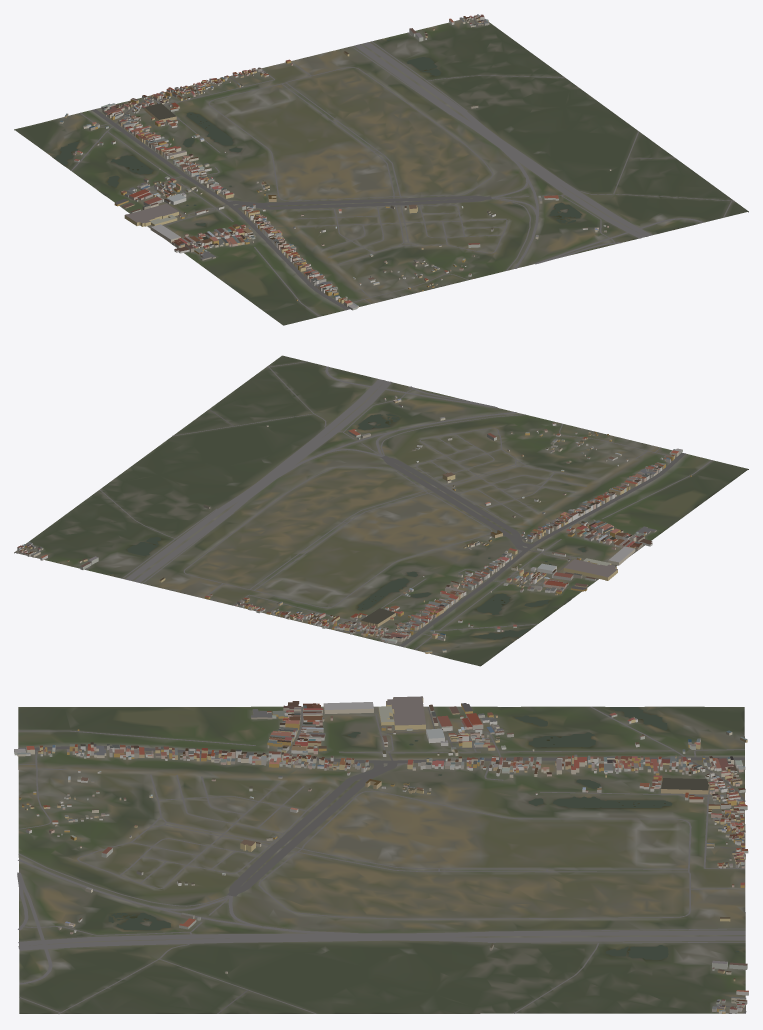
3 views of the same model, one above another, from view 1: azimuth 30°, elevation 25°; view 2: azimuth 150°, elevation 25°; view 3: azimuth 270°, elevation 25° (orthographic). The views are drawn at different scales.
Parts seen in each view (by area): view 1: ground, roads, buildings, water; view 2: ground, roads, buildings, water; view 3: ground, roads, buildings, water.
Part boxes in pixels (x1,y1,x2,y2): ground: (14,15,748,325); roads: (71,15,734,316); buildings: (59,14,611,310); water: (54,39,581,226); ground: (14,355,748,666); roads: (14,361,712,649); buildings: (17,395,691,653); water: (110,414,586,639); ground: (18,706,745,1013); roads: (17,706,746,1013); buildings: (14,696,748,1013); water: (108,707,739,959).
Size of the model in its own units: 1431 by 19.79 by 1418.
